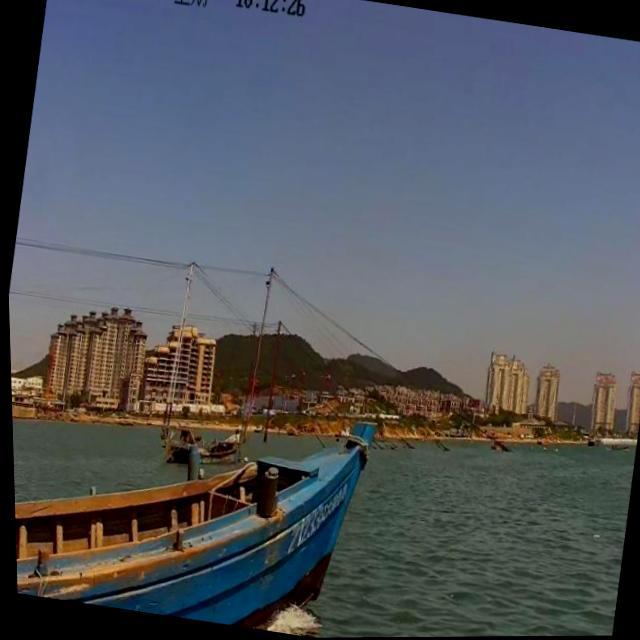ship2: (12, 422, 372, 631), (158, 422, 238, 467)
